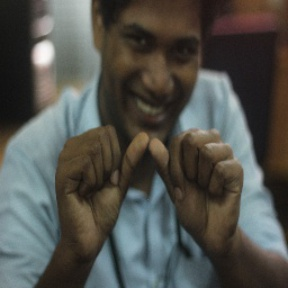A: (74, 118, 222, 234)
